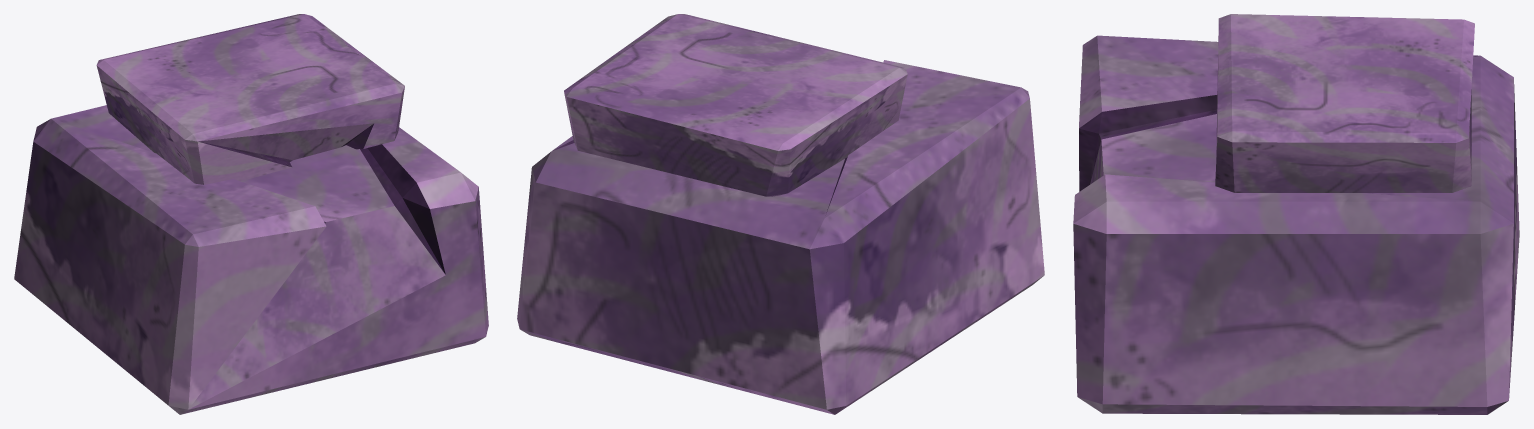
File: Str_Ruins_03_Art.fbx
The picture shows the model from 3 angles, left to right: view 1: azimuth 30°, elevation 25°; view 2: azimuth 150°, elevation 25°; view 3: azimuth 270°, elevation 25°; orthographic projection. The views are drawn at different scales.
Visible parts, largest first — view 1: Str_Ruins_03; view 2: Str_Ruins_03; view 3: Str_Ruins_03.
Boxes of the visible parts, x1,y1,x2,y2 form: Str_Ruins_03: (14,14,488,414); Str_Ruins_03: (517,14,1044,414); Str_Ruins_03: (1073,14,1519,414).
Size of what is drawn, in the model's own units: 191 by 127 by 192.
